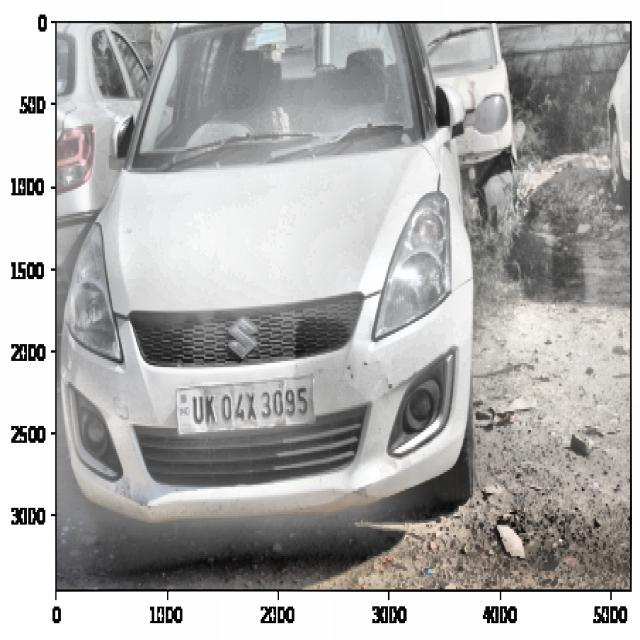license_plate: (188, 385, 312, 428)
